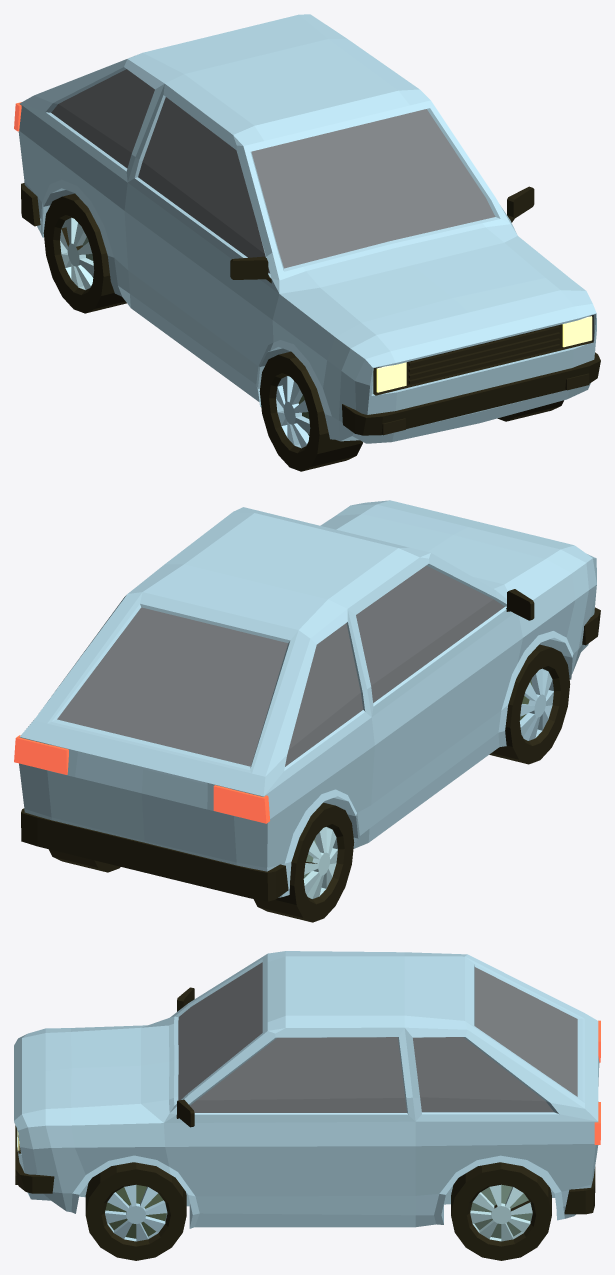
3 views of the same model, one above another, from view 1: azimuth 30°, elevation 25°; view 2: azimuth 150°, elevation 25°; view 3: azimuth 270°, elevation 25° (orthographic). The views are drawn at different scales.
Visible parts, largest first — view 1: Cube_Material.001_0, Cube.001_Materiais_0, Cube.006_farois f_0; view 2: Cube_Material.001_0, Cube.001_Materiais_0, Cube.005_farois 3_0; view 3: Cube_Material.001_0, Cube.001_Materiais_0.
Boxes of the visible parts, left/top/right/bottom form: Cube_Material.001_0: left=18, top=14, right=596, bottom=443; Cube.001_Materiais_0: left=21, top=183, right=600, bottom=471; Cube.006_farois f_0: left=376, top=316, right=592, bottom=392; Cube_Material.001_0: left=19, top=500, right=596, bottom=897; Cube.001_Materiais_0: left=21, top=589, right=600, bottom=922; Cube.005_farois 3_0: left=14, top=735, right=269, bottom=823; Cube_Material.001_0: left=14, top=951, right=599, bottom=1228; Cube.001_Materiais_0: left=15, top=987, right=595, bottom=1260.
Bounding box in the file's own units: 5.03 × 4.18 × 9.96.
4 materials, 4 textured.
